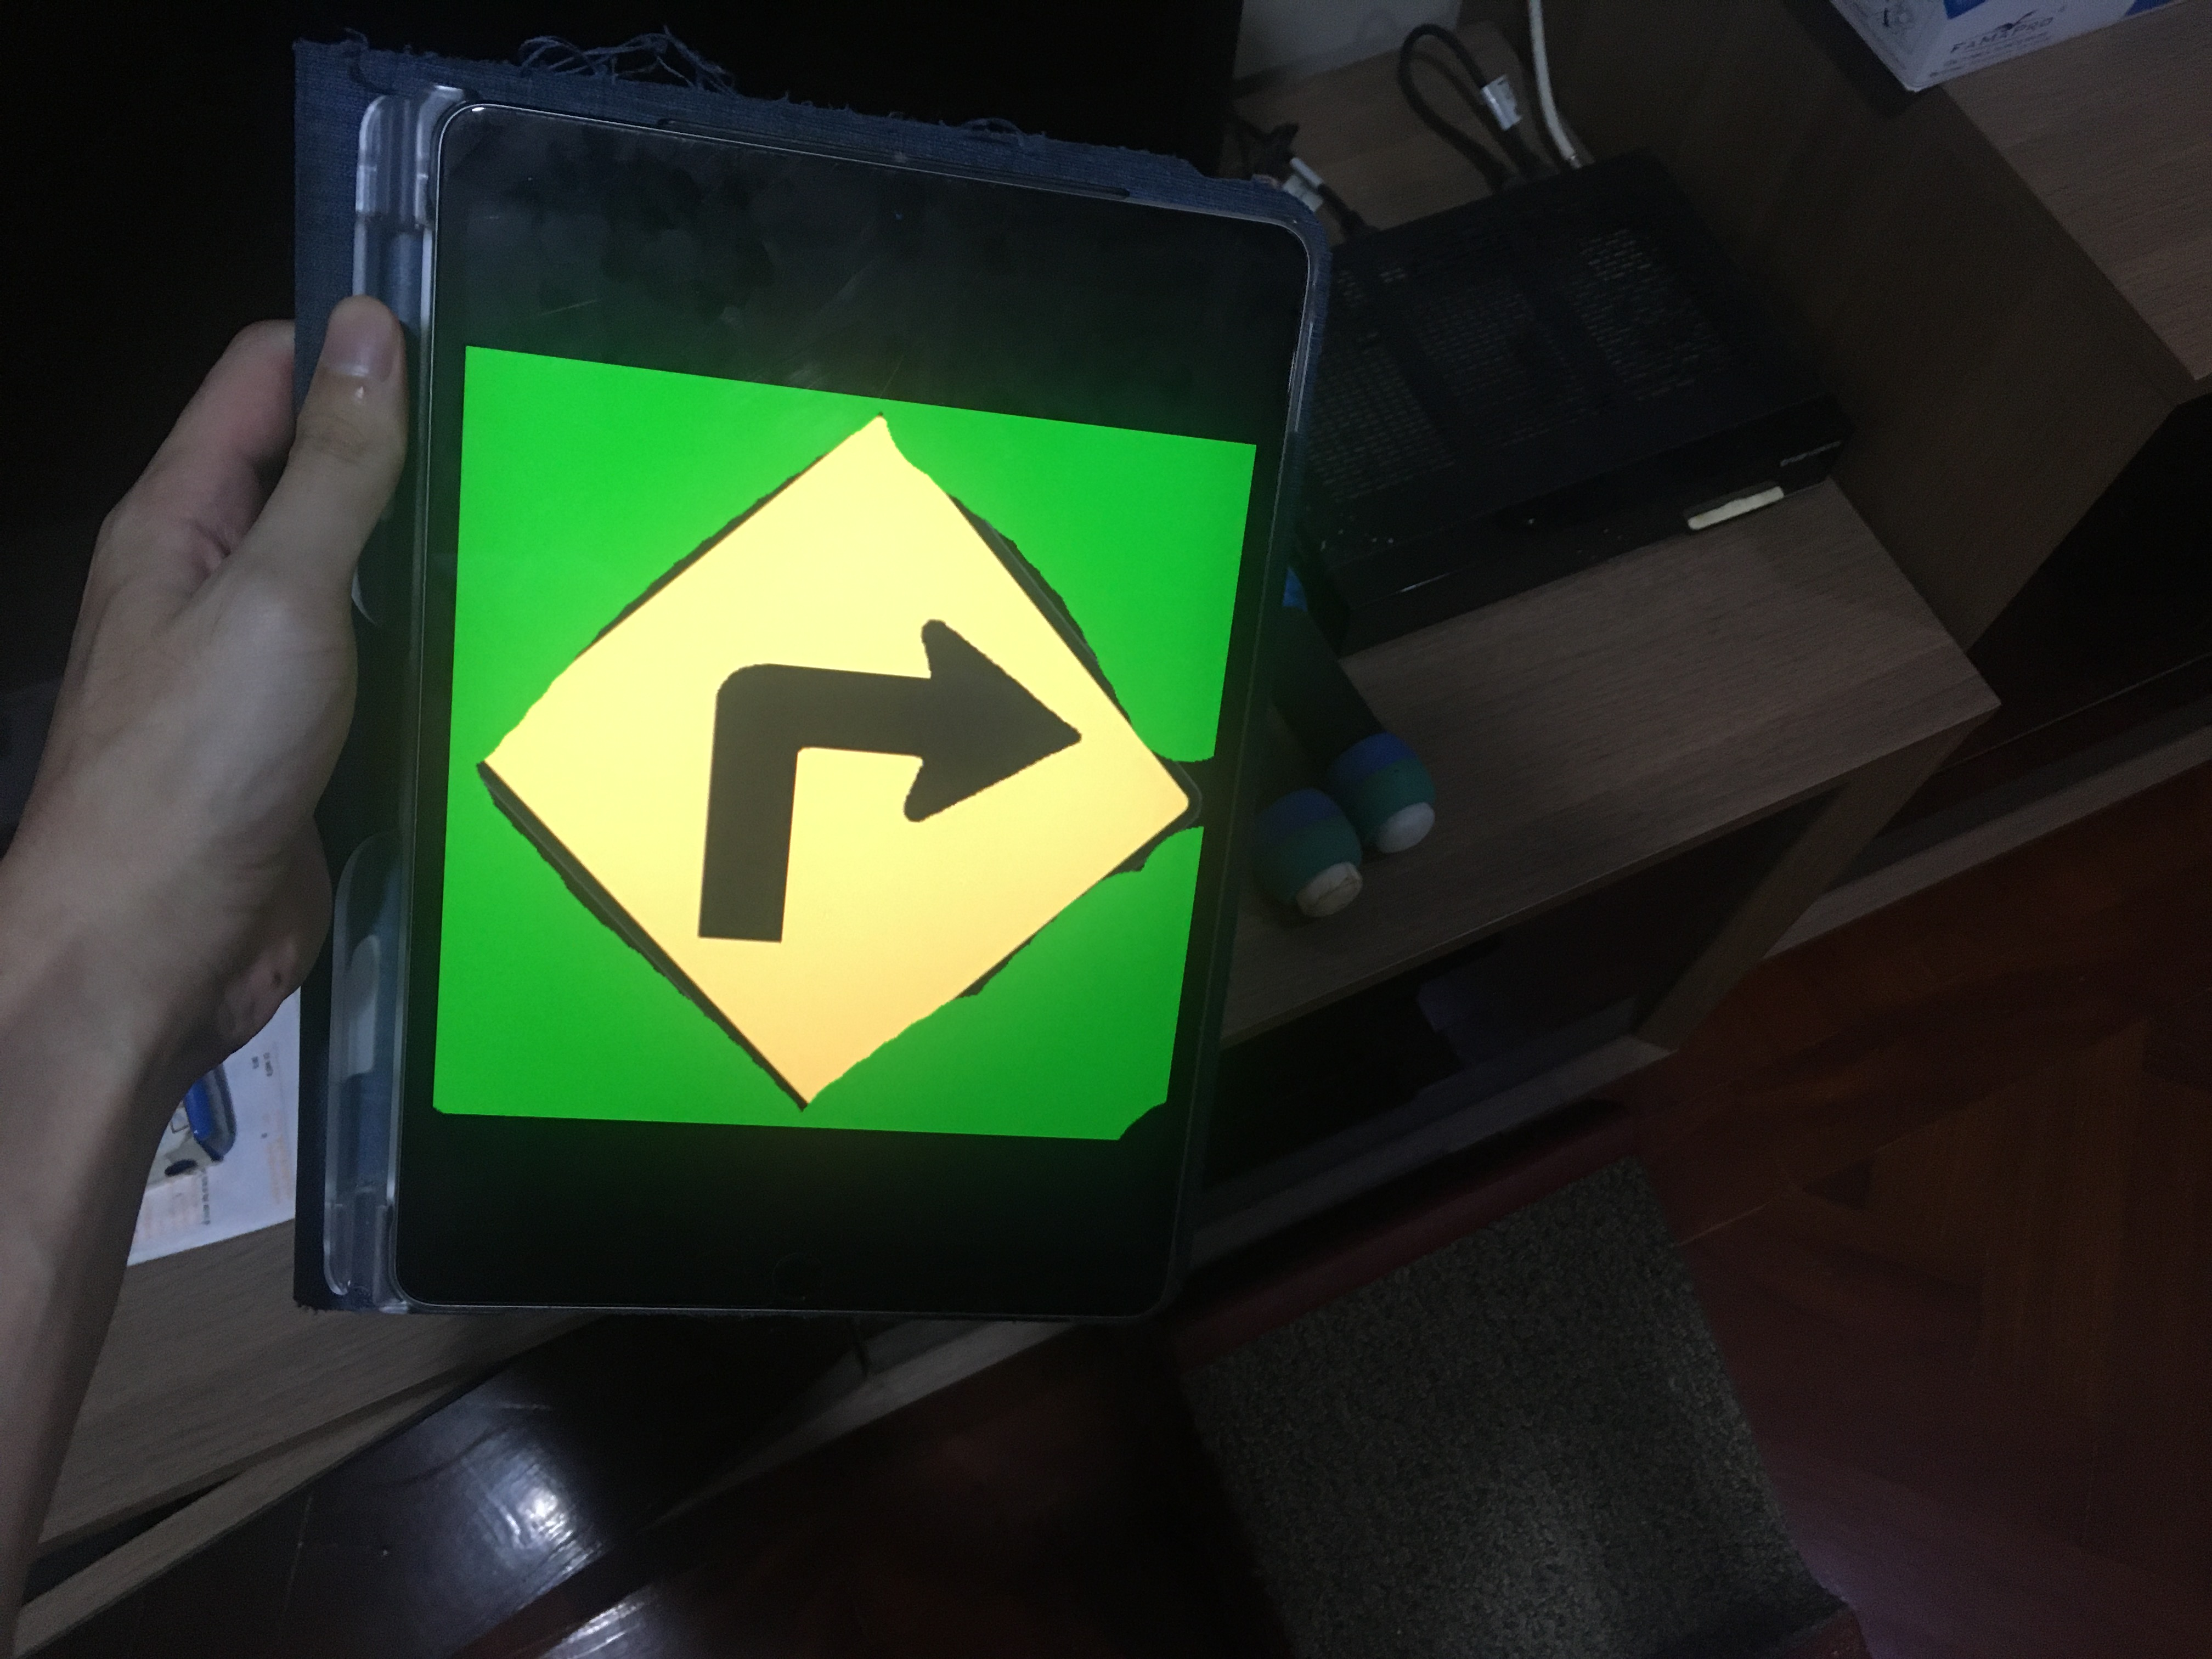right: (470, 416, 1204, 1133)
